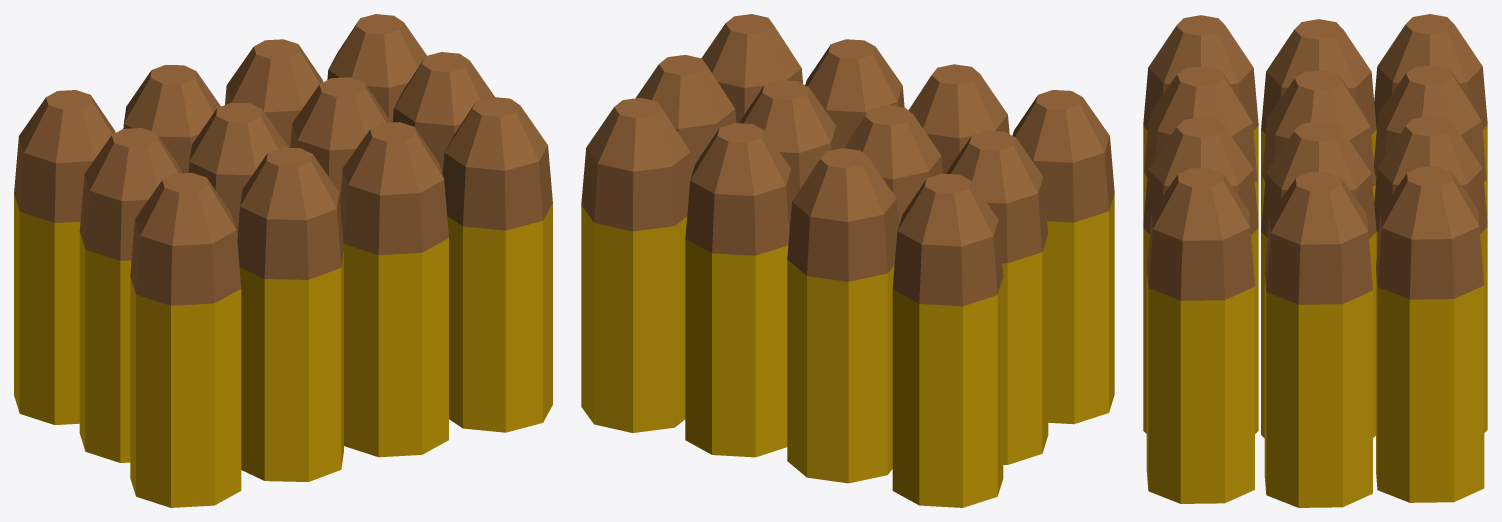
File: PistolAmmo_3D.glb
3 views of the same model, side by side, from view 1: azimuth 30°, elevation 25°; view 2: azimuth 150°, elevation 25°; view 3: azimuth 270°, elevation 25° (orthographic).
Parts seen in each view (by area): view 1: pistolAmmoPack; view 2: pistolAmmoPack; view 3: pistolAmmoPack.
Boxes of the visible parts, bbox=[...] form: pistolAmmoPack: bbox=[14, 14, 552, 507]; pistolAmmoPack: bbox=[581, 14, 1114, 507]; pistolAmmoPack: bbox=[1143, 14, 1487, 507].
Size of the model in its own units: 0.0835 by 0.0577 by 0.0594.
1 material, 1 textured.
